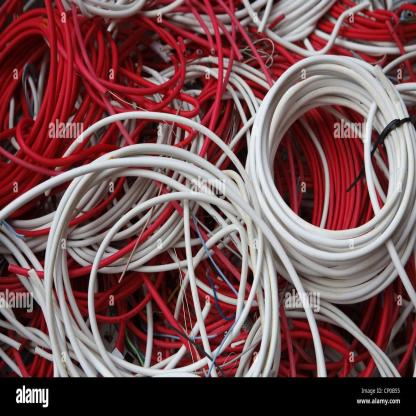wires: (1, 2, 415, 378)
